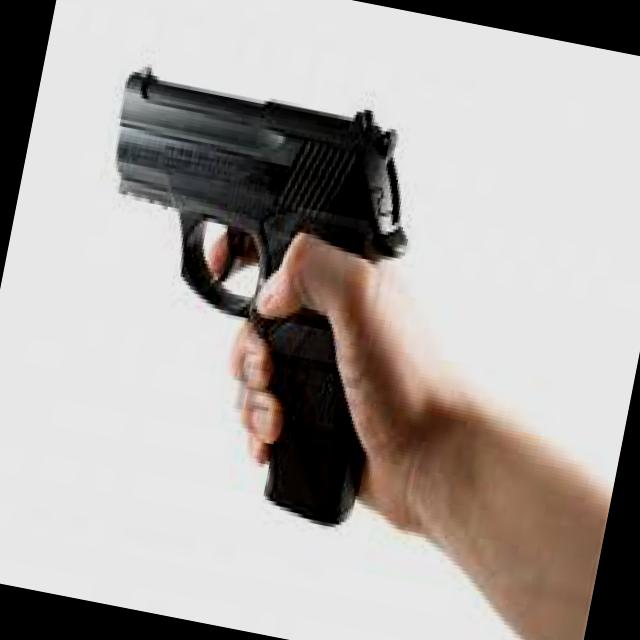handgun: (39, 51, 438, 528)
